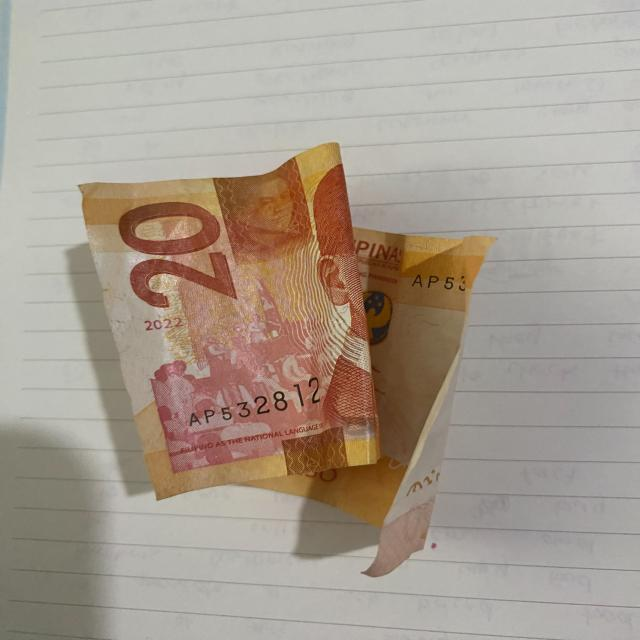concealed_value: (208, 157, 322, 265)
serial_number: (164, 366, 338, 438)
value: (101, 194, 246, 321)
